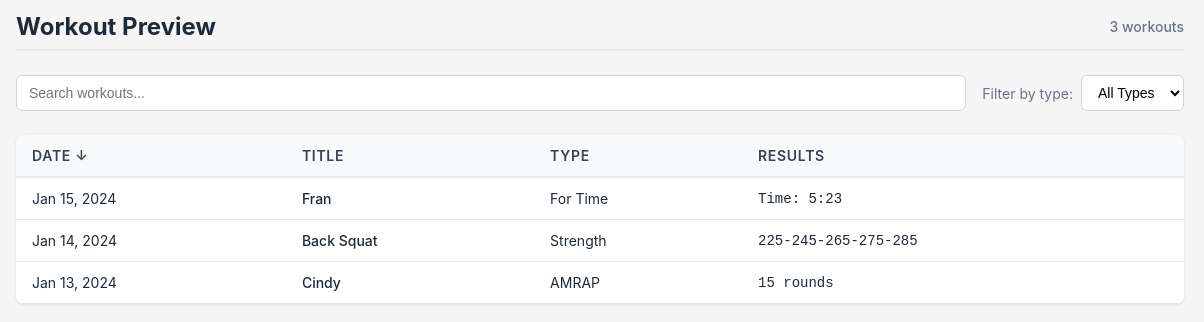
Scenario: ExportPreview › Filtering › should filter workouts by workout type
Select "Strength" in the dropdown labelled "Filter by type:" at {"x": 1132, "y": 93}, box [1081,75,1184,111]
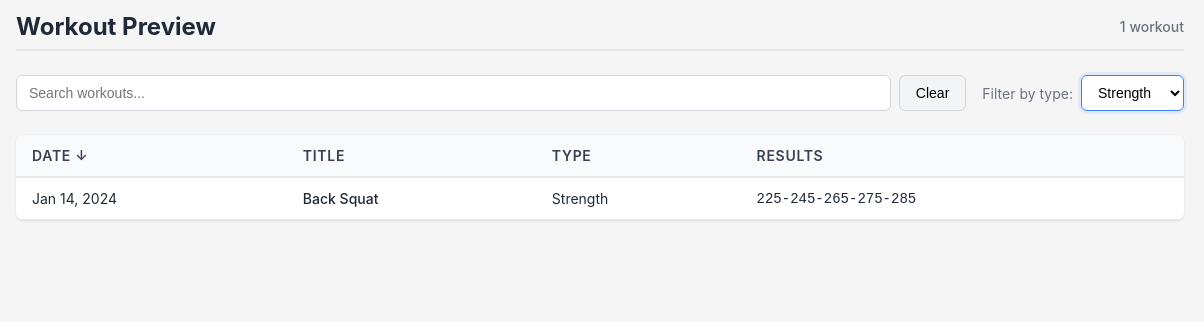
Expected: the text "Back Squat" is shown, [287,177,536,220]
Expected: the text "Fran" is gone
Expected: the text "Cindy" is gone
